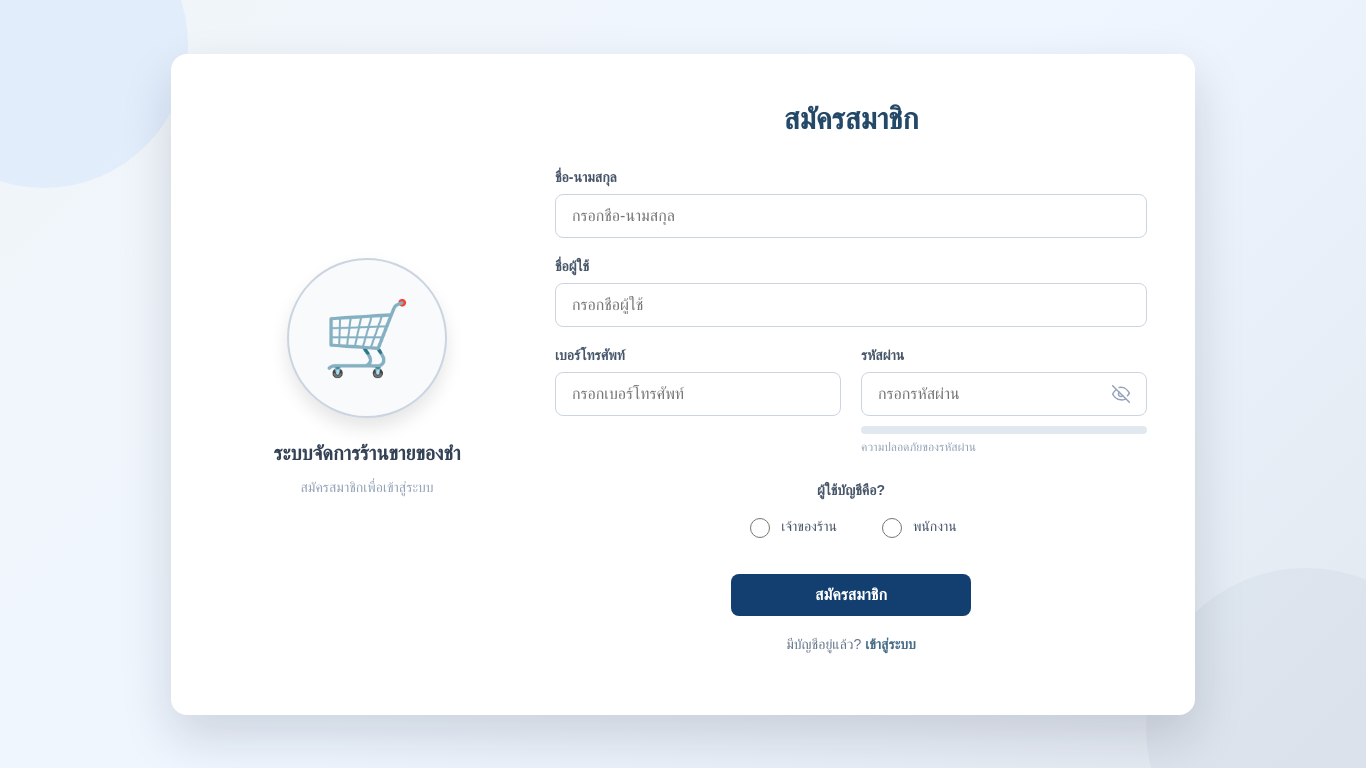
Test: Register page › แจ้งเตือนเมื่อรหัสผ่านสั้นกว่า 6 ตัวอักษร
The image size is (1366, 768).
In the field labelled "ชื่อ-นามสกุล": (851, 216) [555,194,1147,238], type "สมชาย ทดสอบ"
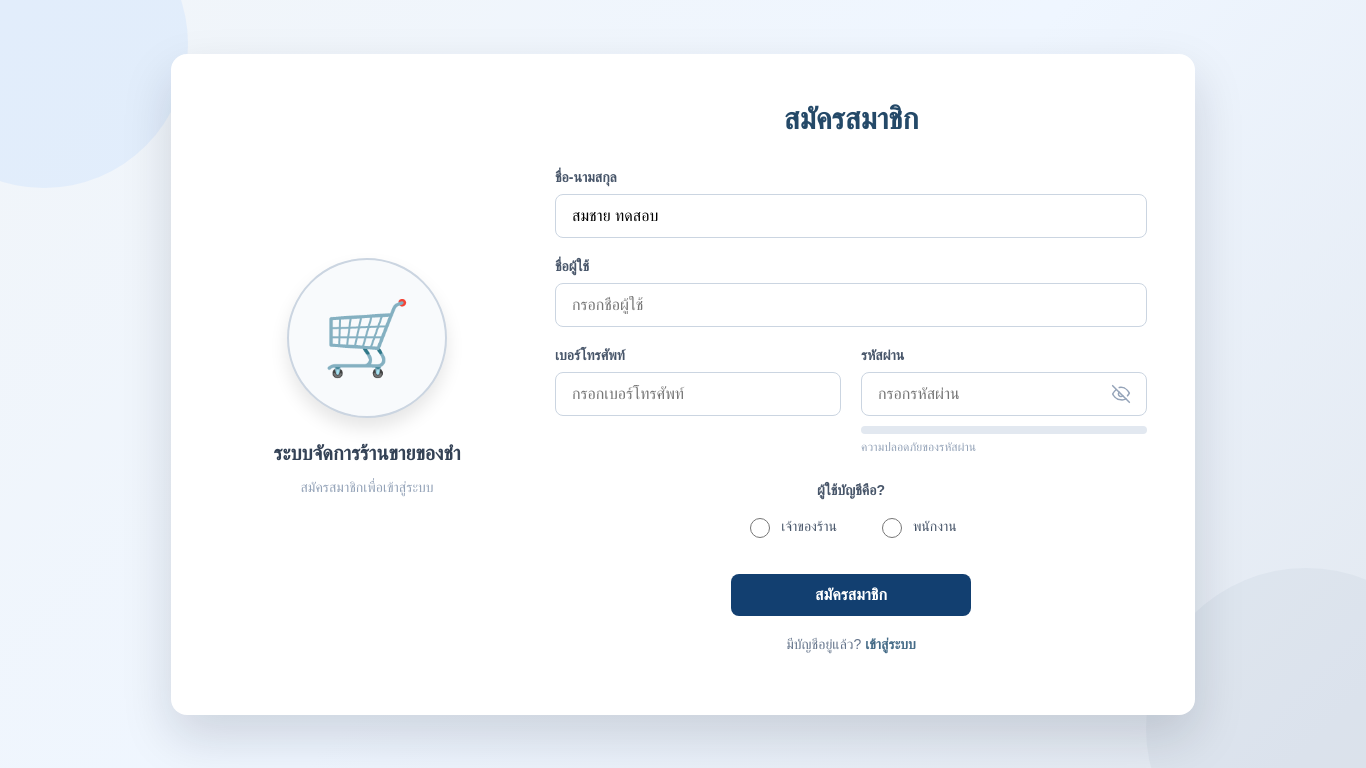
In the field labelled "ชื่อผู้ใช้": (851, 304) [555,282,1147,326], type "somchai"
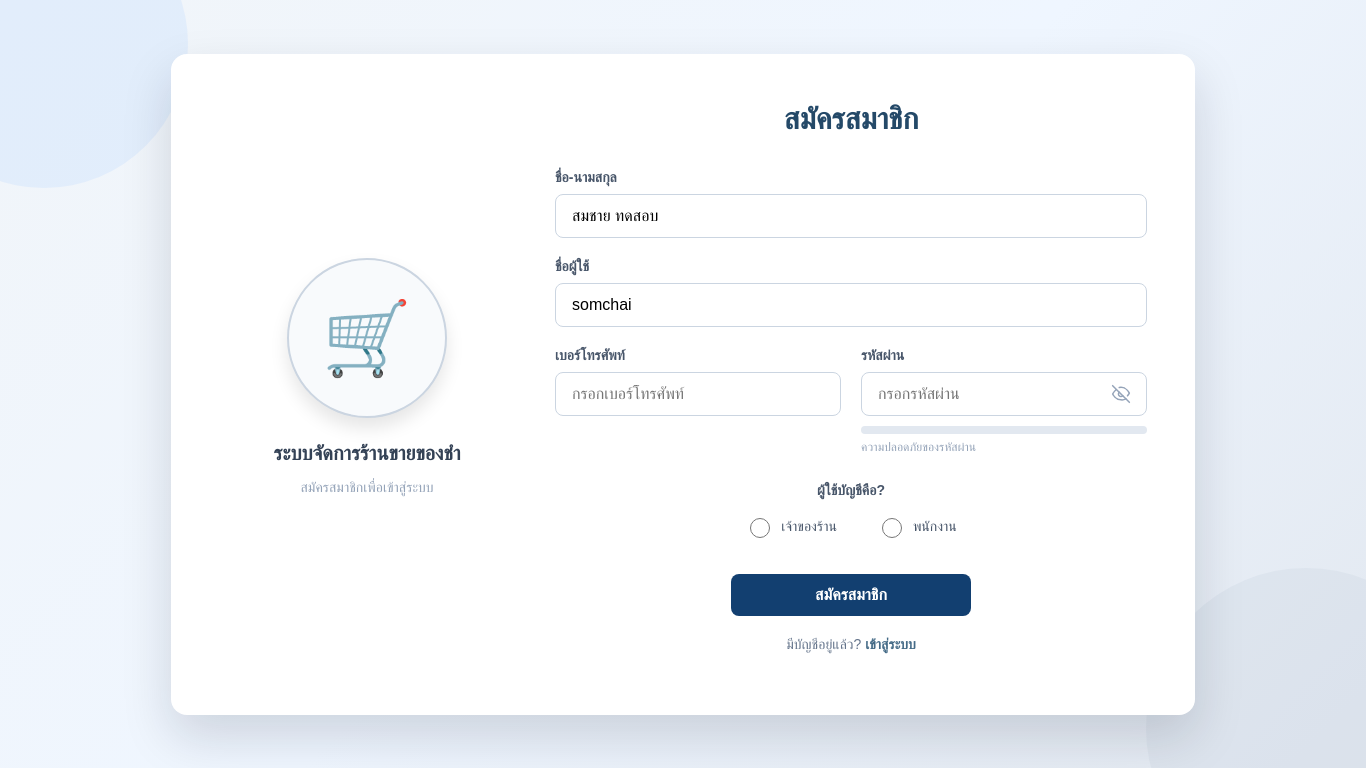
In the field labelled "เบอร์โทรศัพท์": (698, 394) [555,372,841,416], type "0812345678"
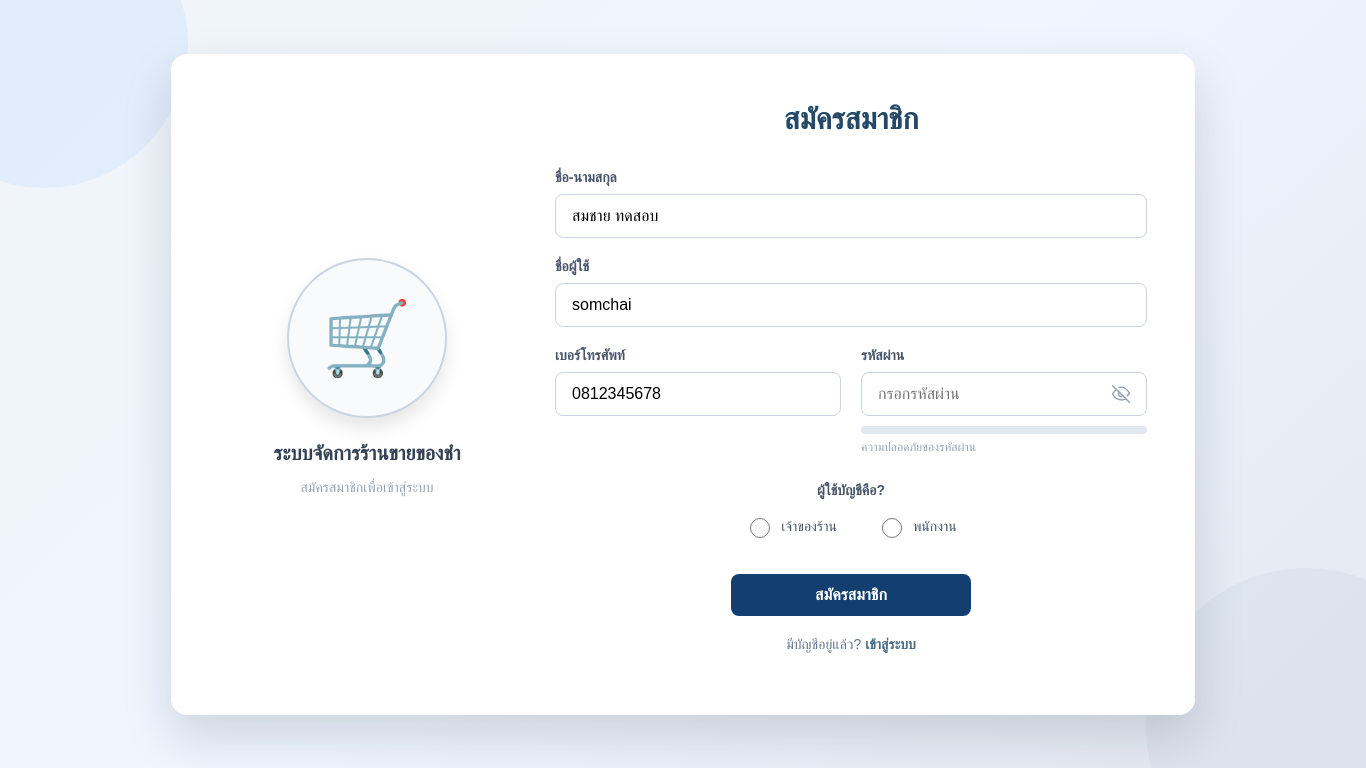
In the password field labelled "รหัสผ่าน": (1004, 394) [861,372,1147,416], type "12345"
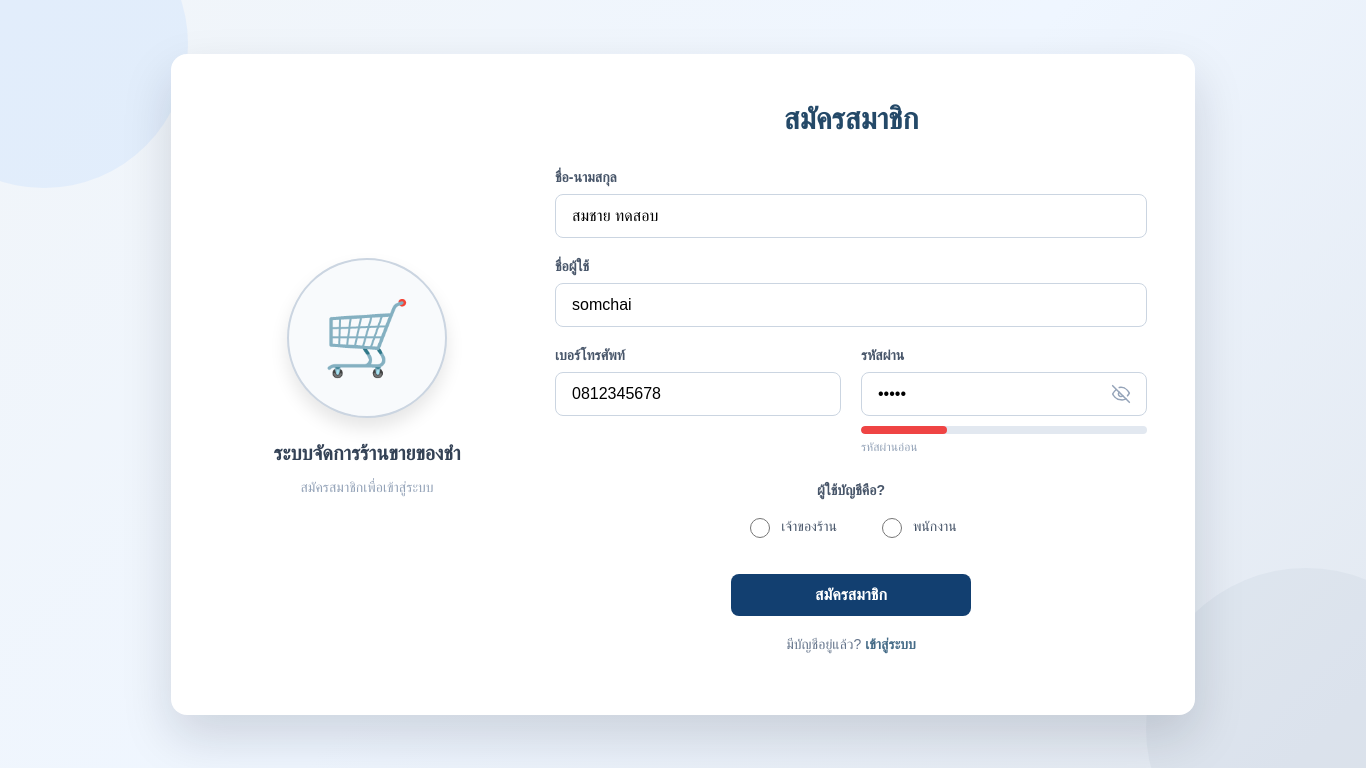
Click the radio button labelled "พนักงาน": (892, 528) [882,518,902,538]
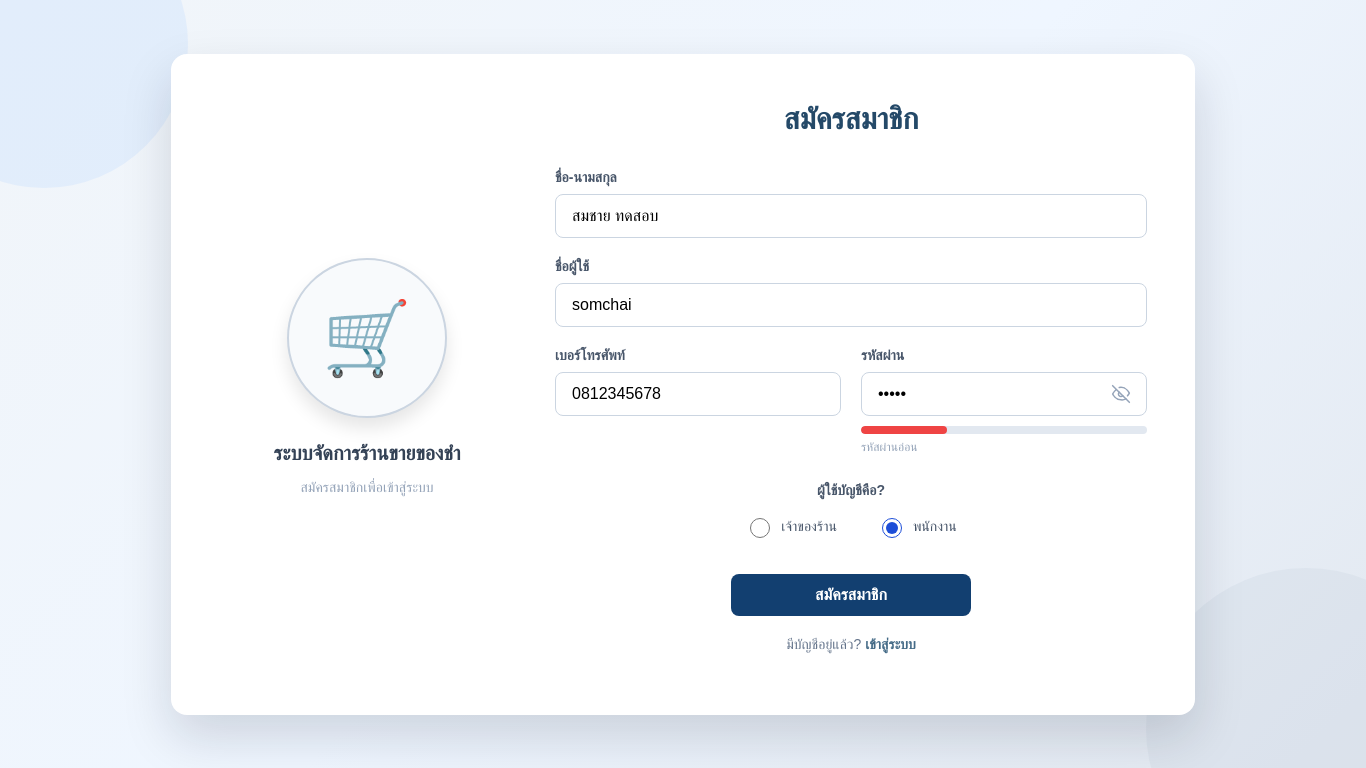
Submit the form with class "register-form", box [555,102,1147,666]
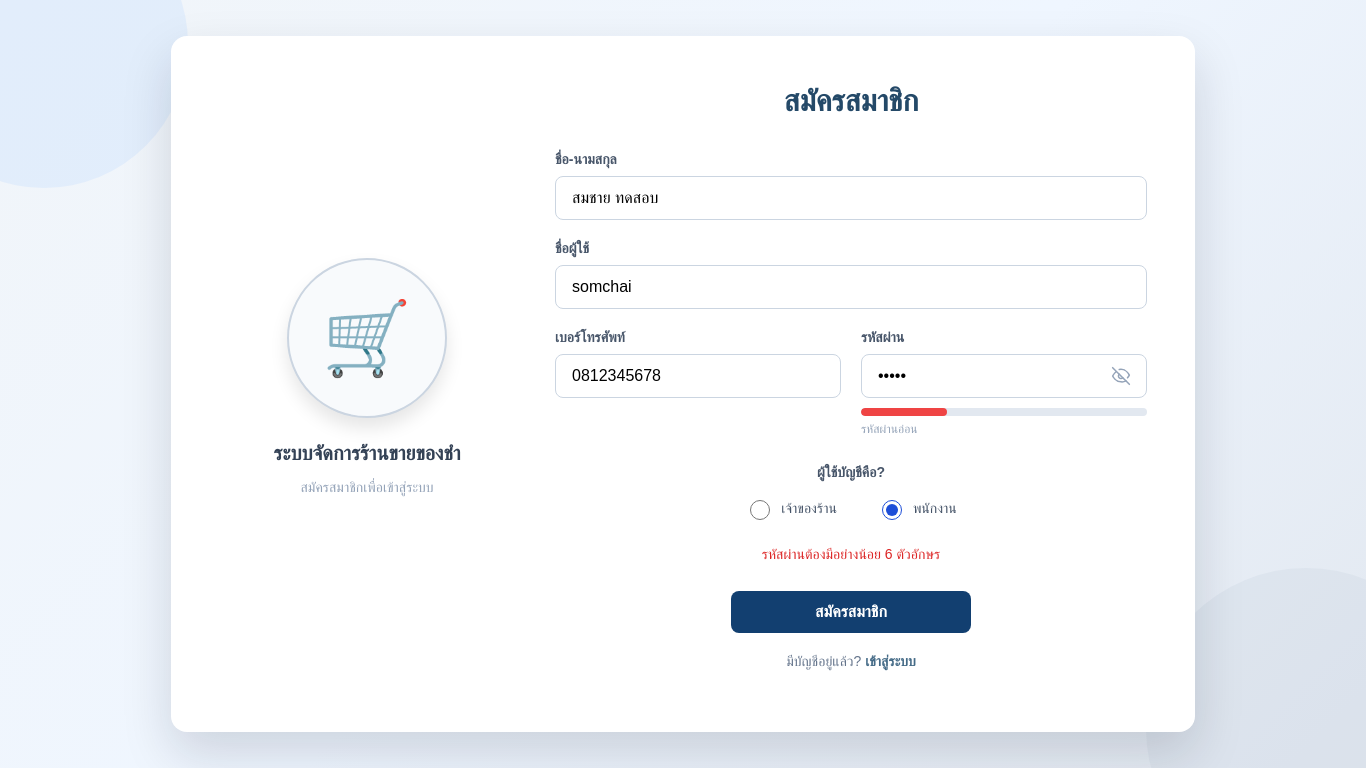
Expected: the message reads "รหัสผ่านต้องมีอย่างน้อย 6 ตัวอักษร", [762,546,940,562]
